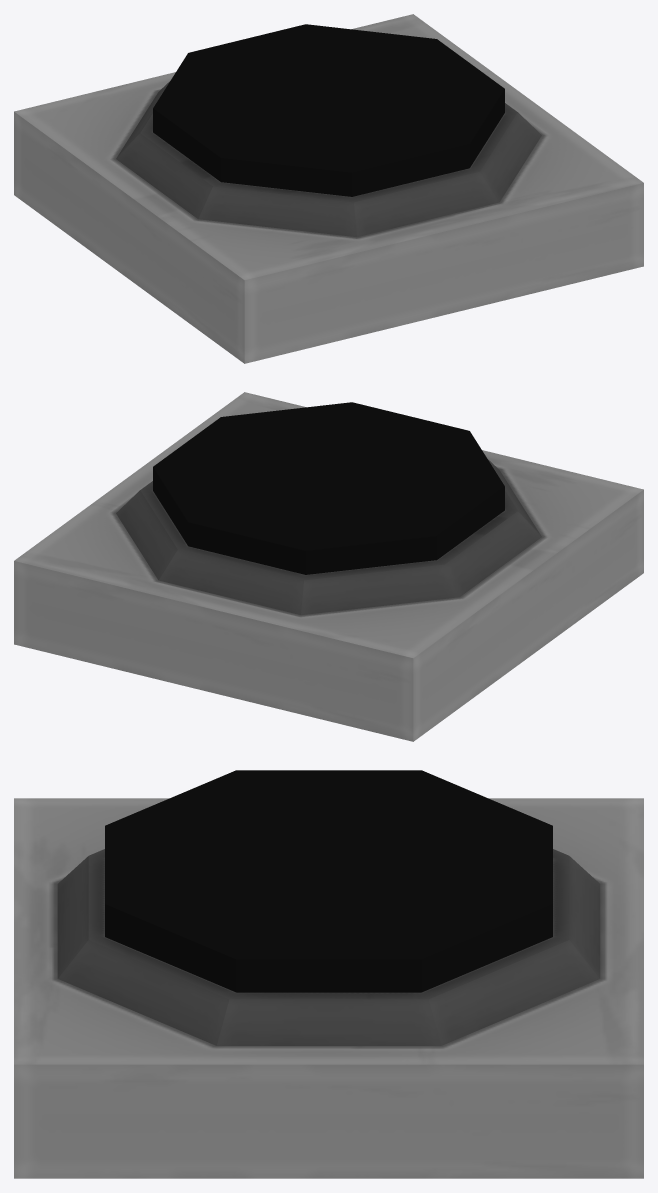
The model's file is obj_interactive_button_on.glb.
The picture shows the model from 3 angles, top to bottom: view 1: azimuth 30°, elevation 25°; view 2: azimuth 150°, elevation 25°; view 3: azimuth 270°, elevation 25°; orthographic projection. The views are drawn at different scales.
Visible parts, largest first — view 1: tmp; view 2: tmp; view 3: tmp.
Boxes of the visible parts, x1=… form: tmp: x1=14, y1=14, x2=643, y2=363; tmp: x1=14, y1=392, x2=643, y2=741; tmp: x1=14, y1=770, x2=643, y2=1178.
Bounding box in the file's own units: 1 × 0.3164 × 1.
1 material, 1 textured.
